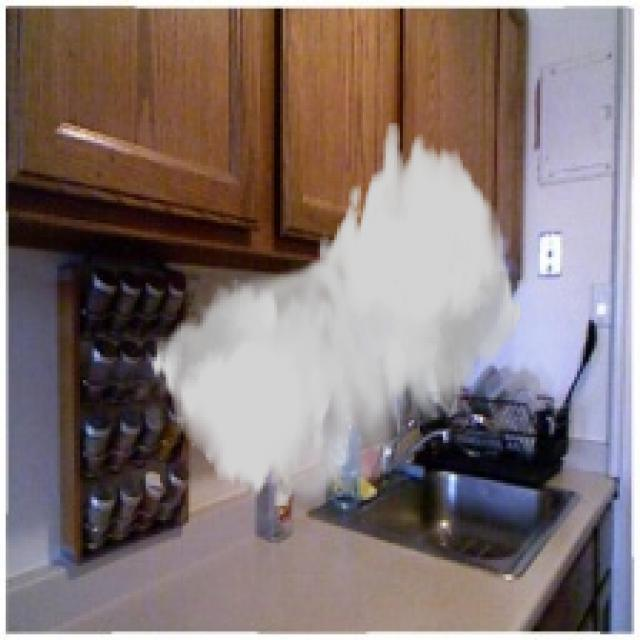Smoke: (148, 122, 523, 508)
